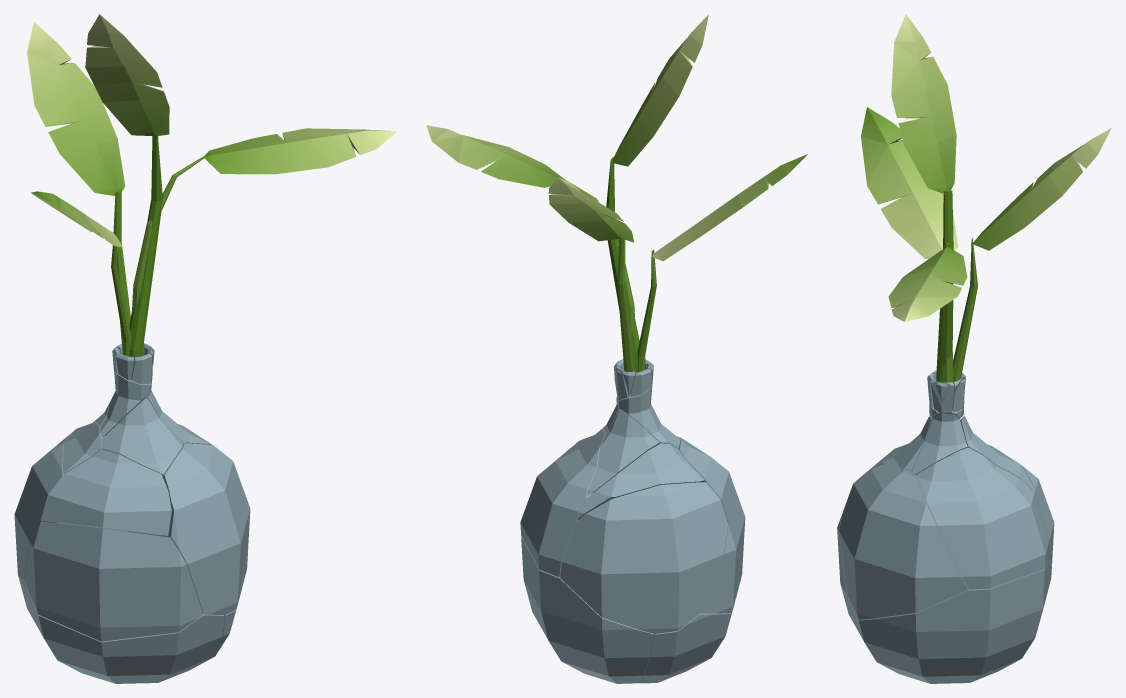
Rendered from HousePlant1_Broken.fbx.
3 renders of one model, left to right at view 1: azimuth 30°, elevation 25°; view 2: azimuth 150°, elevation 25°; view 3: azimuth 270°, elevation 25°, orthographic. The views are drawn at different scales.
Visible parts, largest first — view 1: HousePlant.002_cell.003, HousePlant.002_cell.016, HousePlant.005, HousePlant.004, HousePlant.002_cell.004, HousePlant.002_cell.018, HousePlant.003, HousePlant.002_cell.015, HousePlant.002_cell.005, HousePlant.006, HousePlant.002_cell.002, HousePlant.002_cell.019; view 2: HousePlant.002_cell.005, HousePlant.002_cell, HousePlant.002_cell.011, HousePlant.004, HousePlant.005, HousePlant.003, HousePlant.002_cell.004, HousePlant.002_cell.019, HousePlant.006, HousePlant.002_cell.003, HousePlant.002_cell.009, HousePlant.002_cell.018 (+1 smaller); view 3: HousePlant.002_cell.016, HousePlant.002_cell, HousePlant.002_cell.011, HousePlant.004, HousePlant.006, HousePlant.005, HousePlant.003, HousePlant.002_cell.008, HousePlant.002_cell.015, HousePlant.002_cell.005, HousePlant.002_cell.009, HousePlant.002_cell.010.
Part boxes in pixels (x1,y1,x2,y2): HousePlant.002_cell.003: [24, 521, 203, 641]; HousePlant.002_cell.016: [160, 443, 250, 614]; HousePlant.005: [27, 22, 130, 354]; HousePlant.004: [85, 14, 169, 357]; HousePlant.002_cell.004: [19, 578, 224, 683]; HousePlant.002_cell.018: [41, 449, 171, 535]; HousePlant.003: [132, 128, 396, 355]; HousePlant.002_cell.015: [101, 398, 183, 474]; HousePlant.002_cell.005: [14, 431, 75, 580]; HousePlant.006: [31, 191, 131, 356]; HousePlant.002_cell.002: [100, 373, 151, 437]; HousePlant.002_cell.019: [63, 421, 104, 474]; HousePlant.002_cell.005: [560, 482, 727, 633]; HousePlant.002_cell: [521, 536, 654, 683]; HousePlant.002_cell.011: [520, 428, 605, 577]; HousePlant.004: [606, 14, 708, 372]; HousePlant.005: [548, 177, 636, 395]; HousePlant.003: [426, 125, 635, 370]; HousePlant.002_cell.004: [639, 597, 736, 683]; HousePlant.002_cell.019: [577, 443, 704, 519]; HousePlant.006: [637, 154, 807, 371]; HousePlant.002_cell.003: [699, 484, 745, 613]; HousePlant.002_cell.009: [587, 409, 659, 495]; HousePlant.002_cell.018: [677, 436, 733, 522]; HousePlant.002_cell.016: [839, 464, 967, 619]; HousePlant.002_cell: [856, 561, 1051, 683]; HousePlant.002_cell.011: [916, 447, 1048, 589]; HousePlant.004: [891, 14, 956, 382]; HousePlant.006: [861, 107, 957, 258]; HousePlant.005: [953, 128, 1111, 382]; HousePlant.003: [888, 242, 967, 382]; HousePlant.002_cell.008: [912, 414, 967, 474]; HousePlant.002_cell.015: [882, 416, 931, 473]; HousePlant.002_cell.005: [988, 445, 1054, 565]; HousePlant.002_cell.009: [960, 416, 1021, 479]; HousePlant.002_cell.010: [930, 380, 954, 413].
Size of the model in its own units: 85.69 by 146 by 58.17.
1 material, 1 textured.
